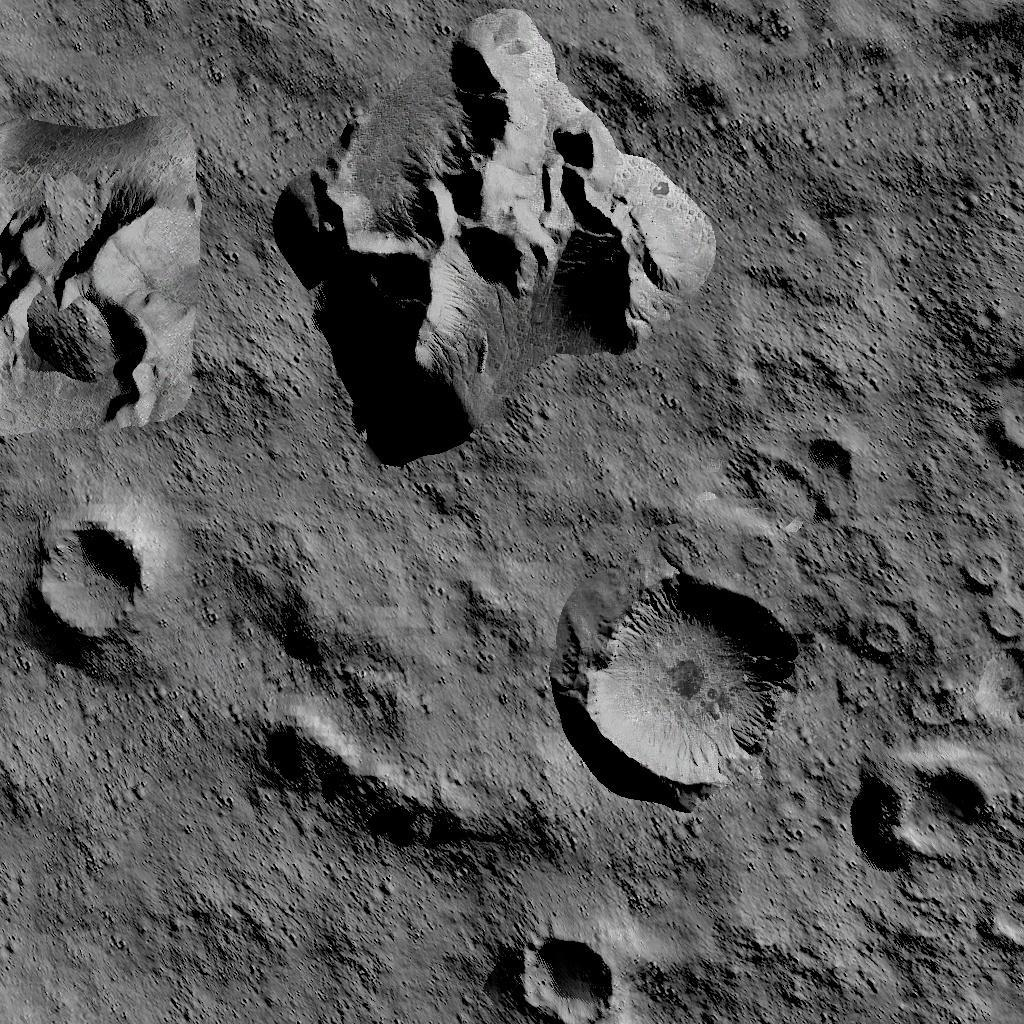Boulders: (282, 21, 712, 467), (0, 122, 203, 436)
Crater: (562, 564, 800, 798), (273, 713, 545, 864), (850, 743, 1006, 875), (30, 516, 150, 640), (516, 924, 618, 1024), (975, 346, 1024, 462)
Plan surface: (0, 659, 264, 1024), (724, 86, 1024, 334), (273, 873, 506, 1024), (0, 0, 271, 112)
